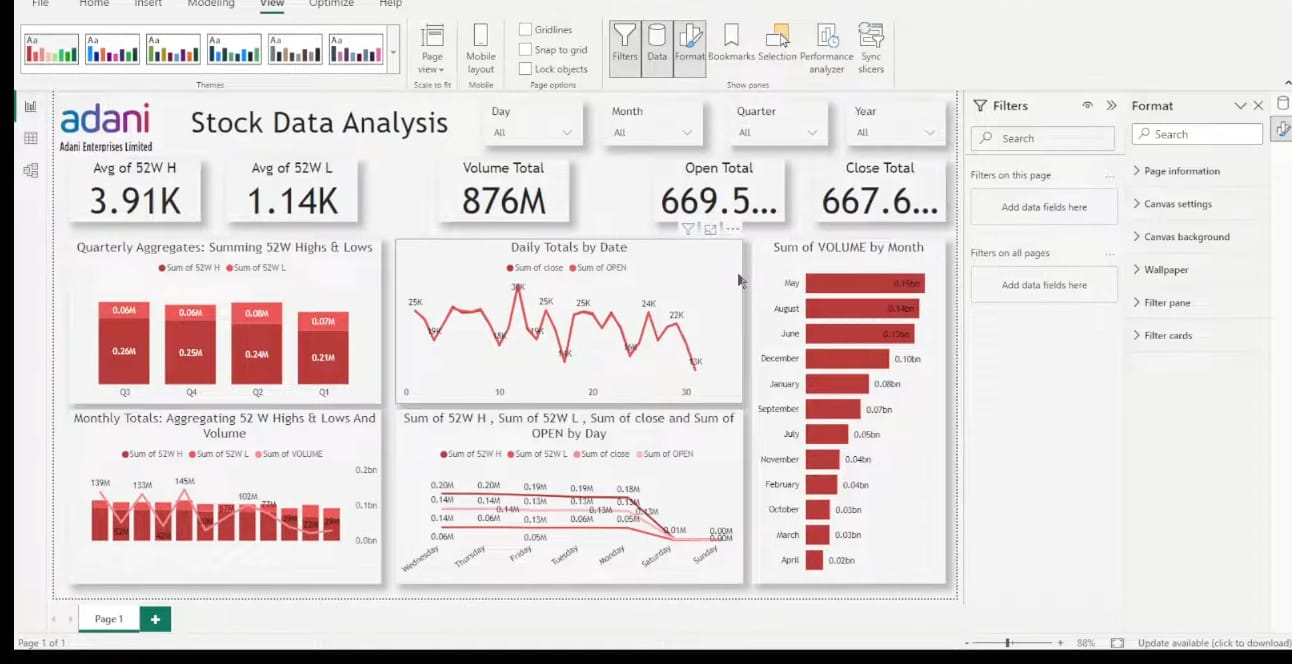

This screenshot's page, from the dashboard's own definition file:
{"tool":"powerbi","page":{"name":"Page 1","canvas":[1280,720],"ordinal":0},"visuals":[{"type":"slicer","fields":{"Values":["harshit_bi_project_2.Day"]},"box":[571.6,0,160.2,79.3],"z":0},{"type":"slicer","fields":{"Values":["harshit_bi_project_2.Months"]},"box":[930.1,0,160,79],"z":1},{"type":"slicer","fields":{"Values":["harshit_bi_project_2.Quarter"]},"box":[1102,0,160,79],"z":2},{"type":"slicer","fields":{"Values":["harshit_bi_project_2.Years"]},"box":[756.7,0,160,79],"z":3},{"type":"card","title":"Avg of 52W H","fields":{"Values":["harshit_bi_project_2.52W H "]},"box":[1041.8,104.3,213.1,88.2],"z":4},{"type":"card","title":"Avg of 52W L","fields":{"Values":["harshit_bi_project_2.52W L "]},"box":[781.7,104.3,213.1,88.2],"z":5},{"type":"card","title":"Close Total","fields":{"Values":["harshit_bi_project_2.close "]},"box":[518.7,104.3,213.1,88.2],"z":6},{"type":"card","title":"Open Total","fields":{"Values":["harshit_bi_project_2.OPEN "]},"box":[267.4,104.3,213.1,88.2],"z":7},{"type":"card","title":"Volumn Total","fields":{"Values":["harshit_bi_project_2.VOLUME "]},"box":[26.4,104.3,213.1,88.2],"z":8},{"type":"columnChart","title":"Quarterly Aggregates  Summing 52W Highs & Lows","fields":{"Y":["harshit_bi_project_2.52W H ","harshit_bi_project_2.52W L "],"Category":["harshit_bi_project_2.Quarter"]},"box":[0,213.1,452.6,266],"z":9},{"type":"lineClusteredColumnComboChart","title":"MonthlyTotals Aggregating 52W Highs & Lows And  Volume","fields":{"Y":["harshit_bi_project_2.52W H ","harshit_bi_project_2.52W L "],"Category":["harshit_bi_project_2.Months"],"Y2":["harshit_bi_project_2.VOLUME "]},"box":[452.6,213.1,490.8,245.4],"z":10},{"type":"lineChart","title":"Daily Totals by Date","fields":{"Category":["harshit_bi_project_2.Date .Variation.Date Hierarchy.Day"],"Y":["harshit_bi_project_2.close ","harshit_bi_project_2.OPEN "]},"box":[470.2,479,458.4,241],"z":11},{"type":"lineChart","fields":{"Y":["harshit_bi_project_2.52W H ","harshit_bi_project_2.52W L ","harshit_bi_project_2.close ","harshit_bi_project_2.OPEN "],"Category":["harshit_bi_project_2.Day"]},"box":[0,495.2,452.6,224.8],"z":12},{"type":"clusteredBarChart","fields":{"Category":["harshit_bi_project_2.Months"],"Y":["harshit_bi_project_2.VOLUME "]},"box":[943.3,213.1,336.5,506.9],"z":13},{"type":"textbox","box":[16.2,0,537.8,89.6],"z":14}]}

Visuals, with their boxes on the page's 1280x720 design canvas (x1, y1, x2, y2). These are canvas units, not pixel positions in the 1292x664 screenshot, which may show the page scaled, cropped or inside an application window:
slicer - harshit_bi_project_2.Day: <bbox>572, 0, 732, 79</bbox>
slicer - harshit_bi_project_2.Months: <bbox>930, 0, 1090, 79</bbox>
slicer - harshit_bi_project_2.Quarter: <bbox>1102, 0, 1262, 79</bbox>
slicer - harshit_bi_project_2.Years: <bbox>757, 0, 917, 79</bbox>
"Avg of 52W H" card: <bbox>1042, 104, 1255, 192</bbox>
"Avg of 52W L" card: <bbox>782, 104, 995, 192</bbox>
"Close Total" card: <bbox>519, 104, 732, 192</bbox>
"Open Total" card: <bbox>267, 104, 480, 192</bbox>
"Volumn Total" card: <bbox>26, 104, 240, 192</bbox>
"Quarterly Aggregates  Summing 52W Highs & Lows" columnChart: <bbox>0, 213, 453, 479</bbox>
"MonthlyTotals Aggregating 52W Highs & Lows And  Volume" lineClusteredColumnComboChart: <bbox>453, 213, 943, 458</bbox>
"Daily Totals by Date" lineChart: <bbox>470, 479, 929, 720</bbox>
lineChart - harshit_bi_project_2.52W H  x harshit_bi_project_2.52W L : <bbox>0, 495, 453, 720</bbox>
clusteredBarChart - harshit_bi_project_2.Months x harshit_bi_project_2.VOLUME : <bbox>943, 213, 1280, 720</bbox>
textbox: <bbox>16, 0, 554, 90</bbox>
